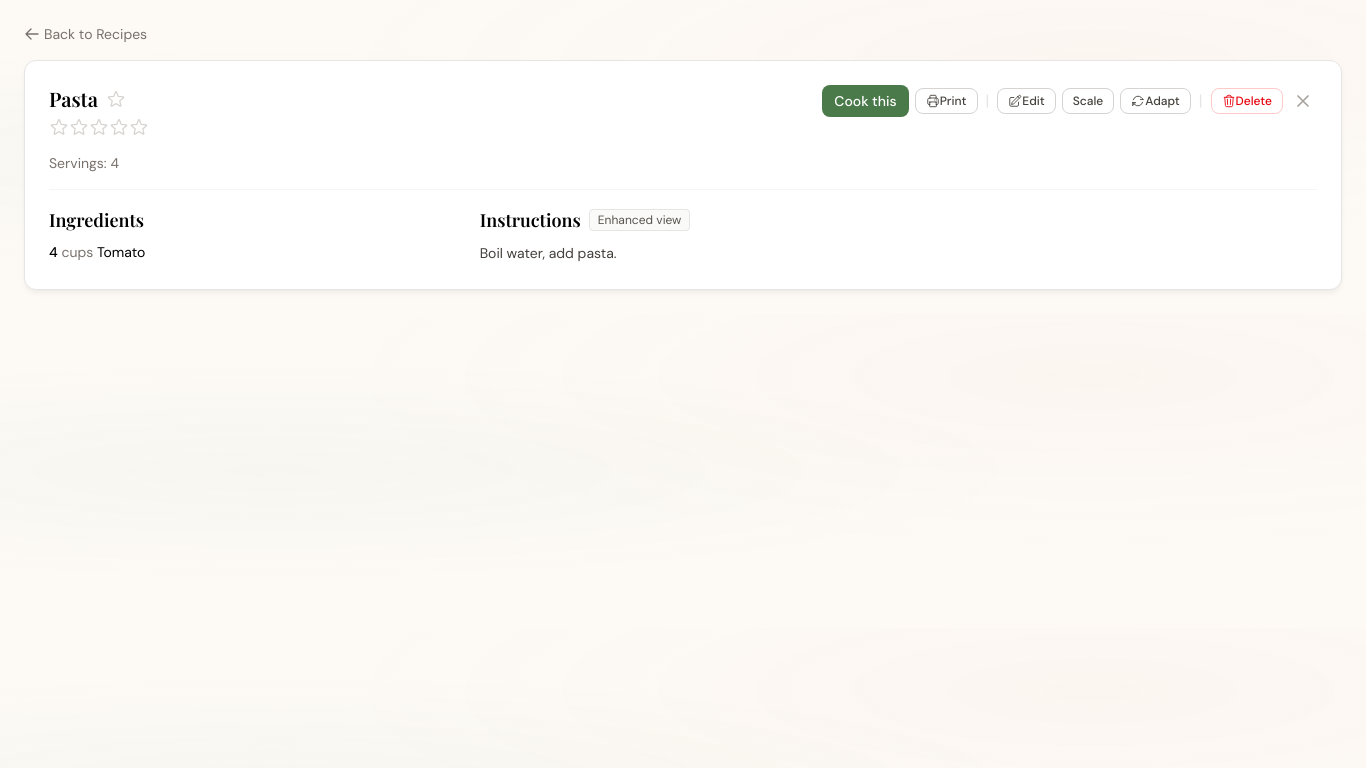
Test: RecipeDetailPage › deleting a recipe navigates back to the list view
Expected: the heading "Pasta" is shown, left=49, top=85, right=98, bottom=113
What coordinates should you click on to do the following:
click the button "Delete"
I would click on:
 (1247, 101)
Its box is left=1210, top=88, right=1283, bottom=114.
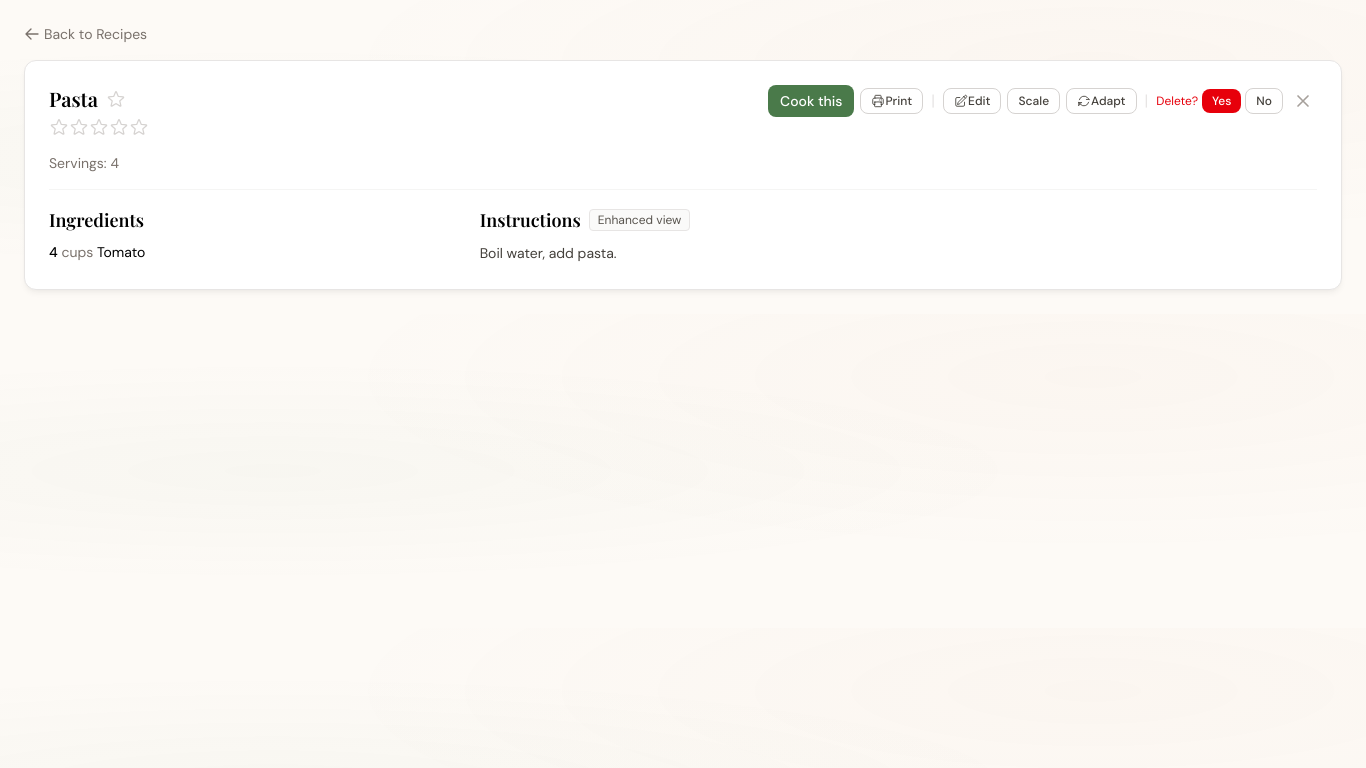
What coordinates should you click on to do the following:
click the button "Yes"
I would click on:
 (1222, 101)
Its box is left=1202, top=89, right=1241, bottom=113.
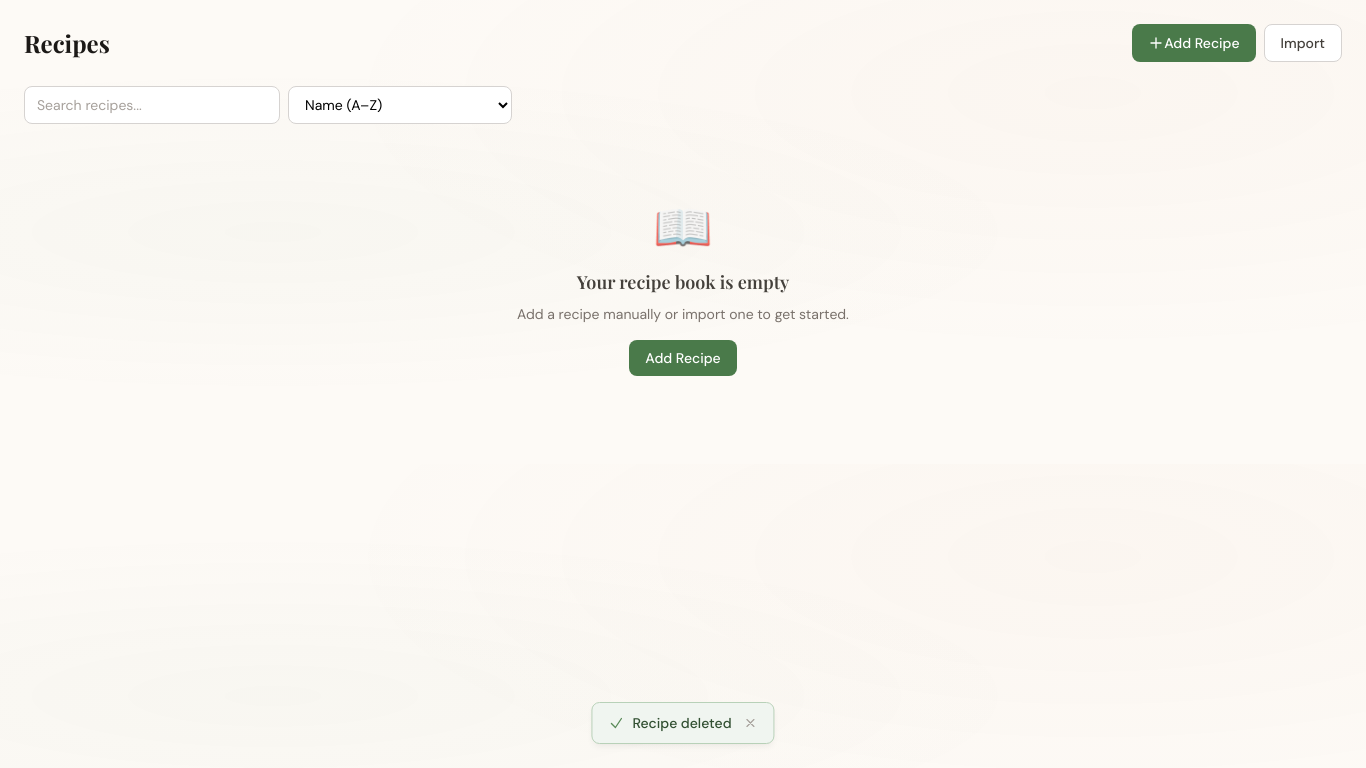
Result: the heading "Your recipe book is empty" is shown at left=577, top=270, right=789, bottom=294
